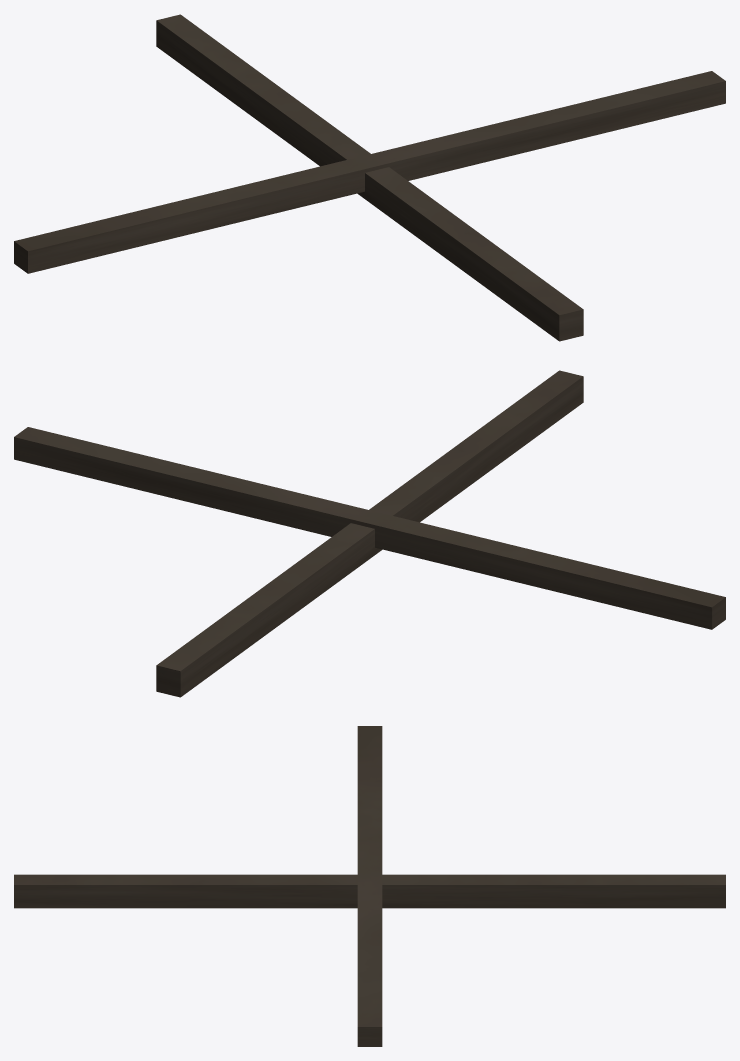
The model's file is dungeon_room_open_rise.glb.
3 views of the same model, one above another, from view 1: azimuth 30°, elevation 25°; view 2: azimuth 150°, elevation 25°; view 3: azimuth 270°, elevation 25° (orthographic). The views are drawn at different scales.
Parts seen in each view (by area): view 1: dungeon_room_open_rise; view 2: dungeon_room_open_rise; view 3: dungeon_room_open_rise.
Part boxes in pixels (left/top/right/bottom): dungeon_room_open_rise: left=14, top=14, right=725, bottom=341; dungeon_room_open_rise: left=14, top=370, right=725, bottom=697; dungeon_room_open_rise: left=14, top=726, right=725, bottom=1046.
Bounding box in the file's own units: 5.05 × 0.2074 × 5.05.
1 material, 1 textured.
